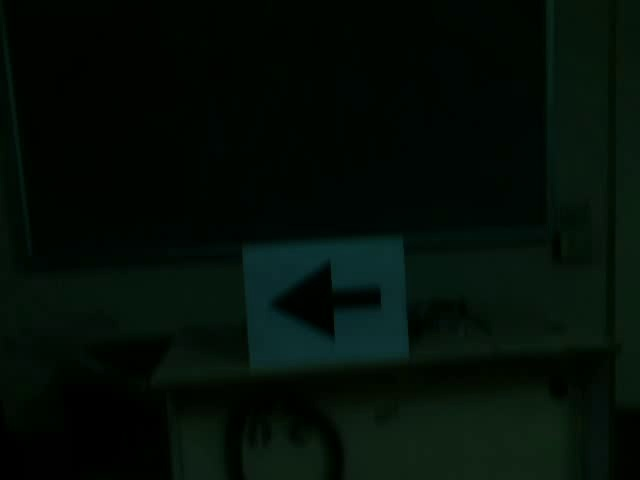Left: (264, 252, 389, 346)
